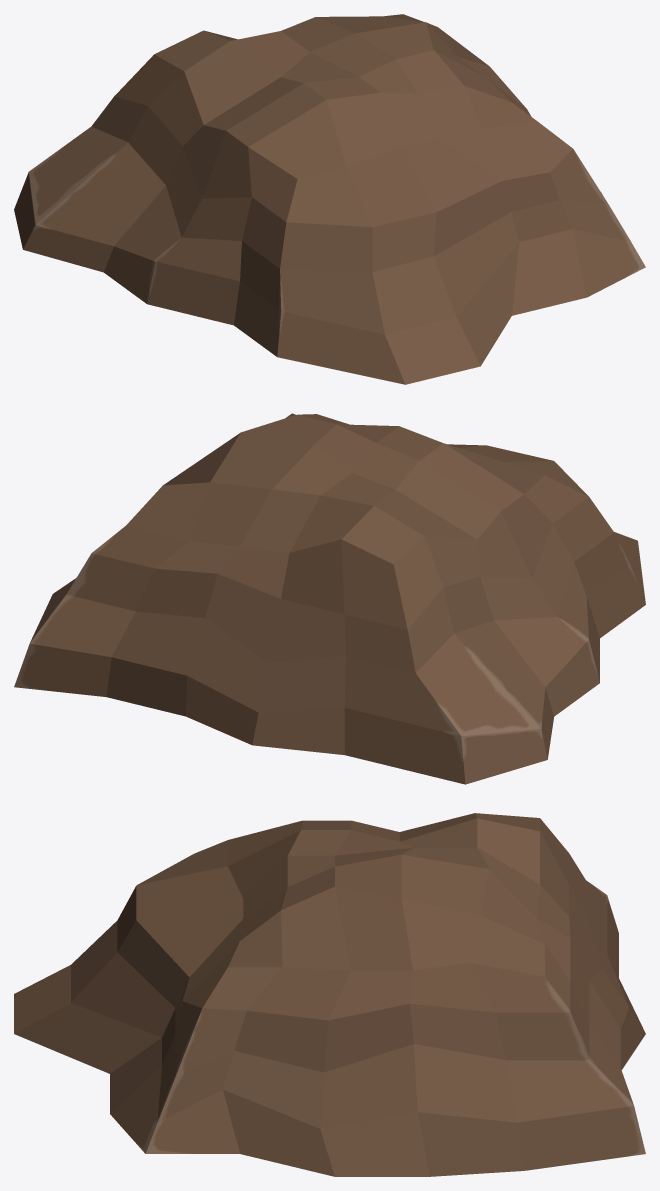
File: Rock01.fbx
3 views of the same model, one above another, from view 1: azimuth 30°, elevation 25°; view 2: azimuth 150°, elevation 25°; view 3: azimuth 270°, elevation 25° (orthographic). The views are drawn at different scales.
Visible parts, largest first — view 1: pCube3; view 2: pCube3; view 3: pCube3.
Boxes of the visible parts, bbox=[...] form: pCube3: bbox=[14, 14, 645, 384]; pCube3: bbox=[14, 413, 645, 784]; pCube3: bbox=[14, 813, 645, 1176].
Bounding box in the file's own units: 4.49 × 1.66 × 4.58.
